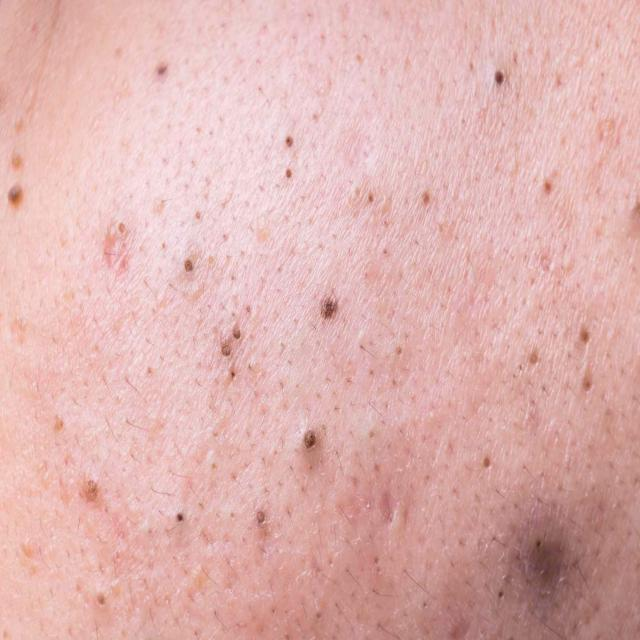dark spot: (310, 281, 346, 337), (0, 179, 26, 223), (168, 498, 193, 542), (298, 424, 322, 467), (486, 62, 514, 92), (177, 254, 200, 286), (215, 340, 234, 367), (286, 127, 298, 156)
